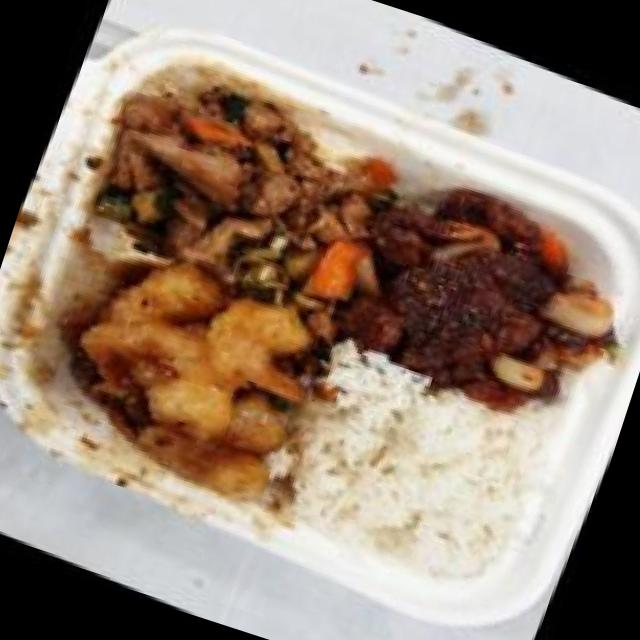Beijing Beef: (316, 142, 640, 443)
Honey Walnut Shrimp: (28, 222, 354, 524)
Kung Pao Chicken: (50, 36, 418, 340)
White Steamed Rice: (268, 341, 562, 605)
